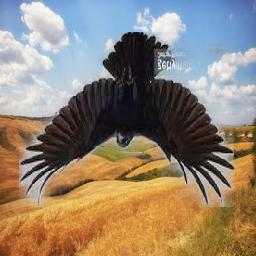Crow: (20, 33, 235, 208)
